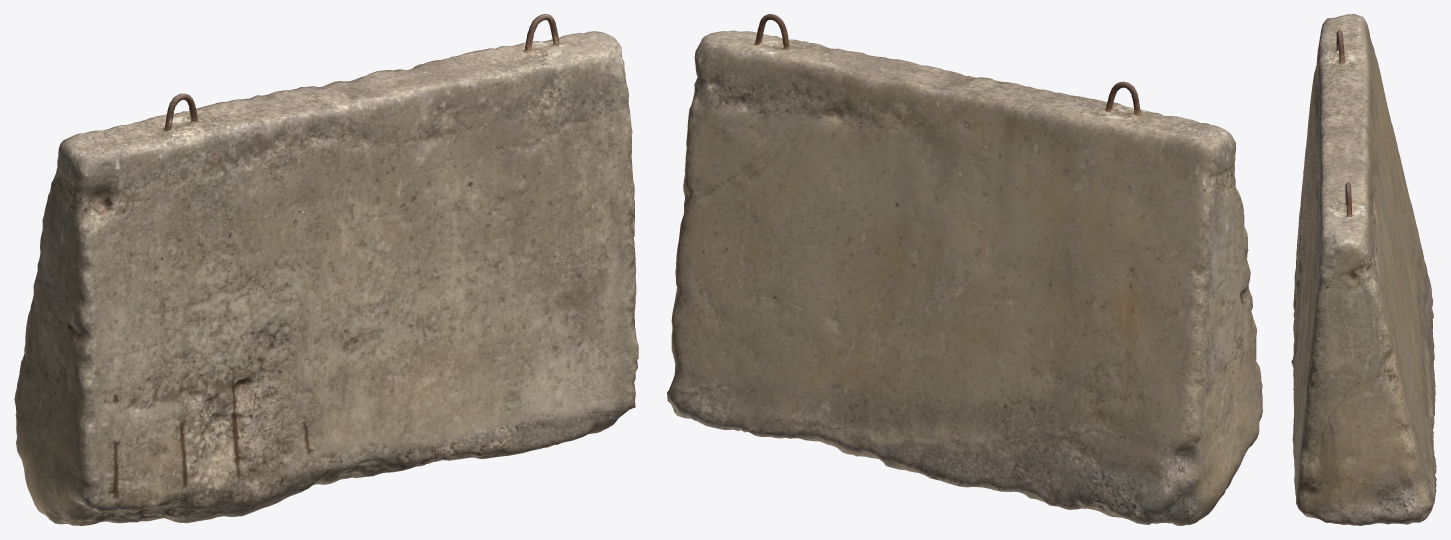
Rendered from concrete_road_barrier_02.glb.
The picture shows the model from 3 angles, left to right: view 1: azimuth 30°, elevation 25°; view 2: azimuth 150°, elevation 25°; view 3: azimuth 270°, elevation 25°; orthographic projection. The views are drawn at different scales.
Visible parts, largest first — view 1: concrete_road_barrier_02; view 2: concrete_road_barrier_02; view 3: concrete_road_barrier_02.
Part boxes in pixels (x1,y1,x2,y2): concrete_road_barrier_02: (14, 14, 638, 525); concrete_road_barrier_02: (667, 14, 1262, 525); concrete_road_barrier_02: (1291, 14, 1436, 525).
Size of the model in its own units: 1.57 by 1.11 by 0.4421.
1 material, 1 textured.
